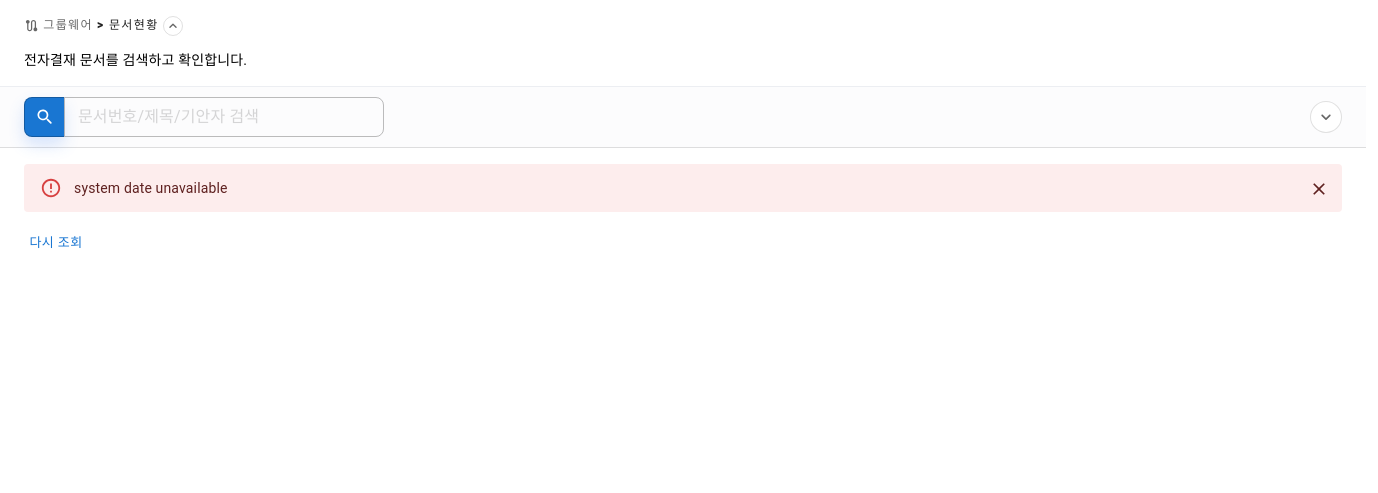
Test case: document status page › shows a retryable system date error without sending a defaultless list request
Expected: the text "system date unavailable" is shown, x1=74 y1=180 x2=228 y2=196
What coordinates should you click on to do the following:
click the button with aria-label "문서현황 다시 조회"
I would click on:
 (56, 243)
Its box is x1=24 y1=228 x2=88 y2=259.
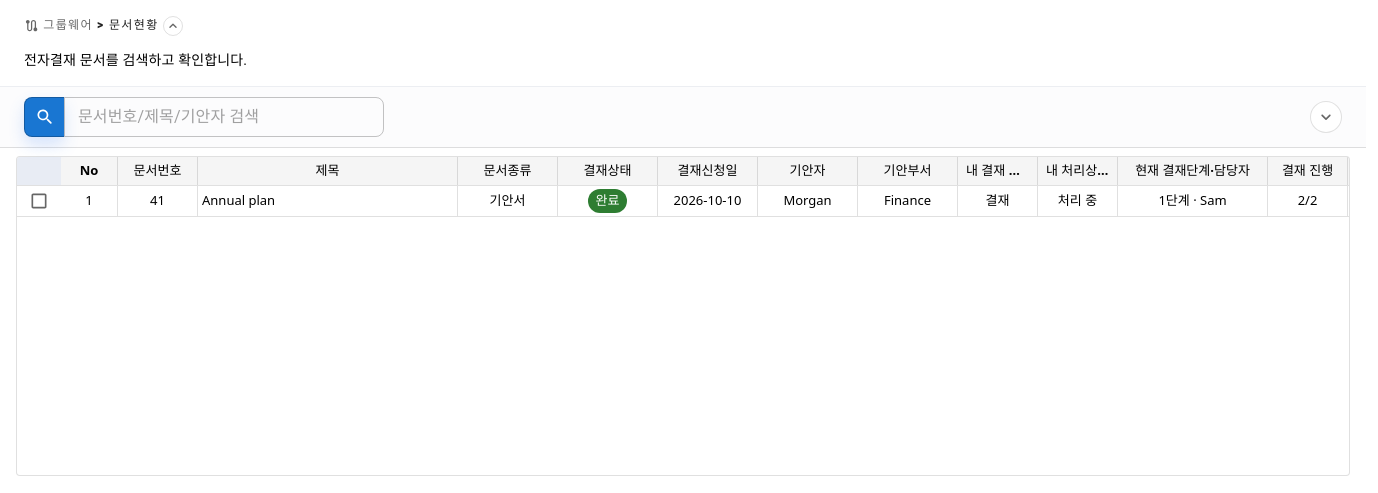
Result: the text "41" is shown at x1=150 y1=191 x2=165 y2=209
